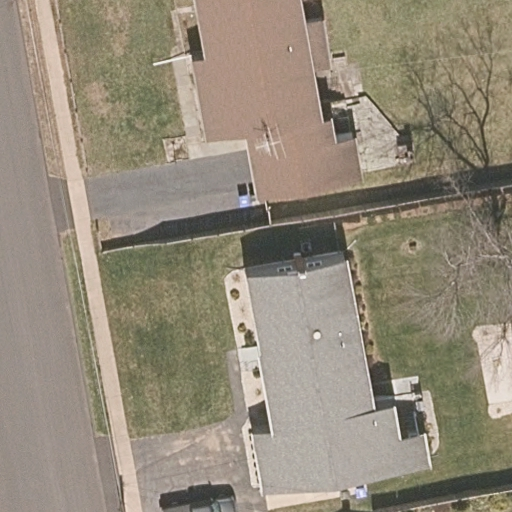DT: (113, 475, 126, 512)
